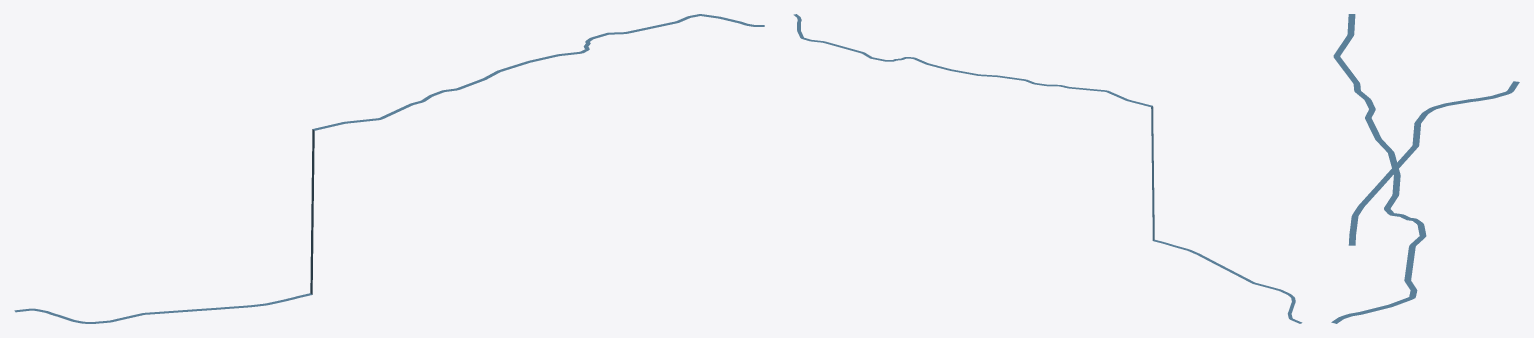
File: c_1639_17833_water.glb
The picture shows the model from 3 angles, left to right: view 1: azimuth 30°, elevation 25°; view 2: azimuth 150°, elevation 25°; view 3: azimuth 270°, elevation 25°; orthographic projection. The views are drawn at different scales.
Visible parts, largest first — view 1: geometry_0; view 2: geometry_0; view 3: geometry_0.
Boxes of the visible parts, <box> form: geometry_0: <box>14,14,764,323</box>; geometry_0: <box>793,14,1302,323</box>; geometry_0: <box>1331,14,1519,323</box>.
Bounding box in the file's own units: 2007 × 460 × 335.
